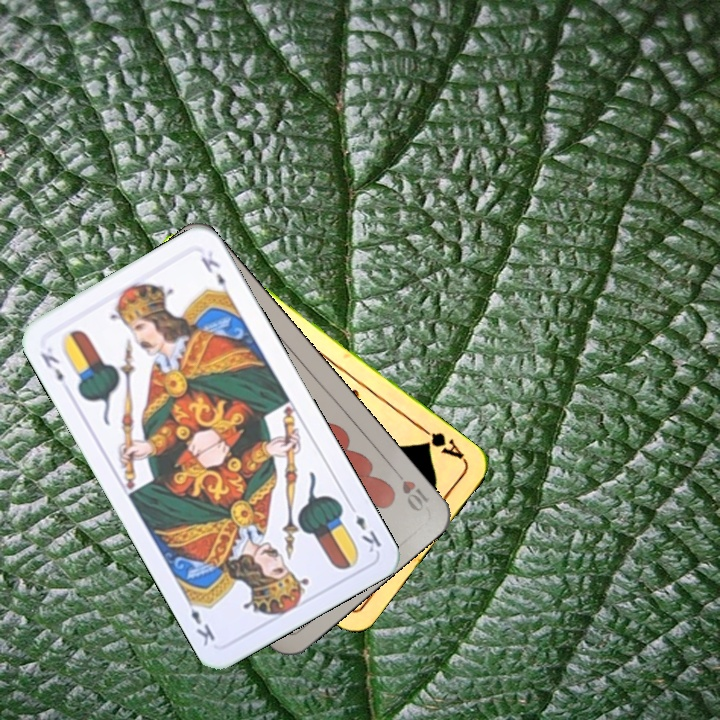EK: (344, 499, 385, 555), (36, 348, 66, 385)
GA: (416, 422, 467, 463)
H10: (388, 463, 432, 515)
